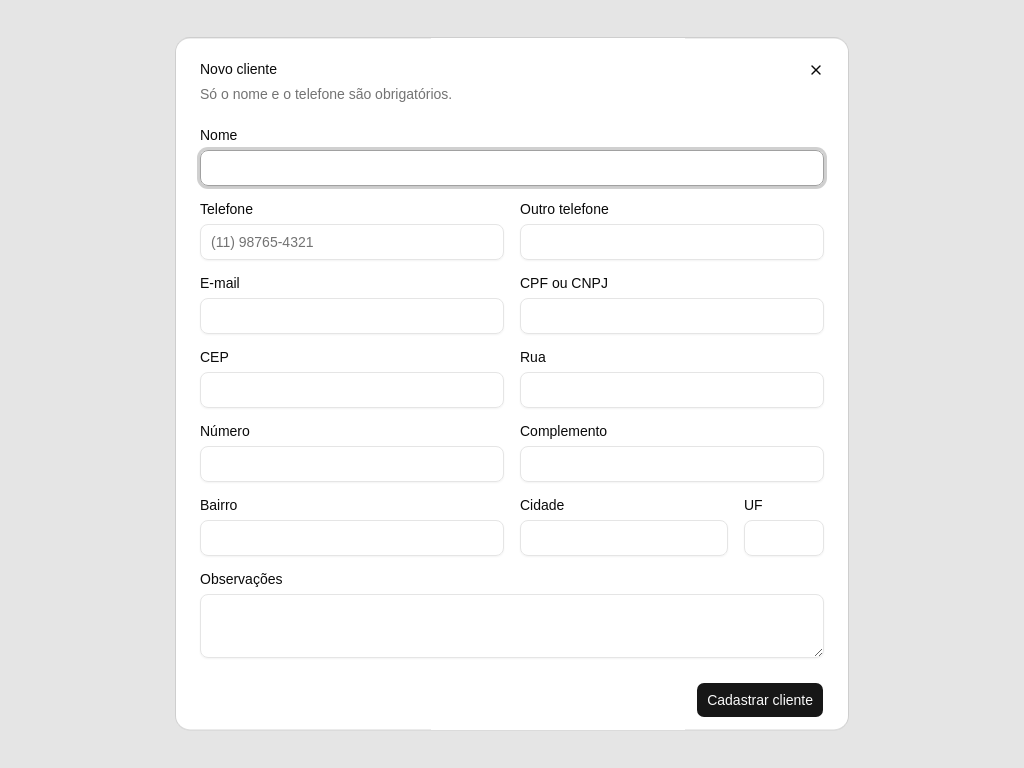
Customer Dialog › should point at the phone when another customer has it
Step 1. Type "Maria Souza" into the field labelled "Nome" → {"x": 512, "y": 168}, box [200,150,824,186]
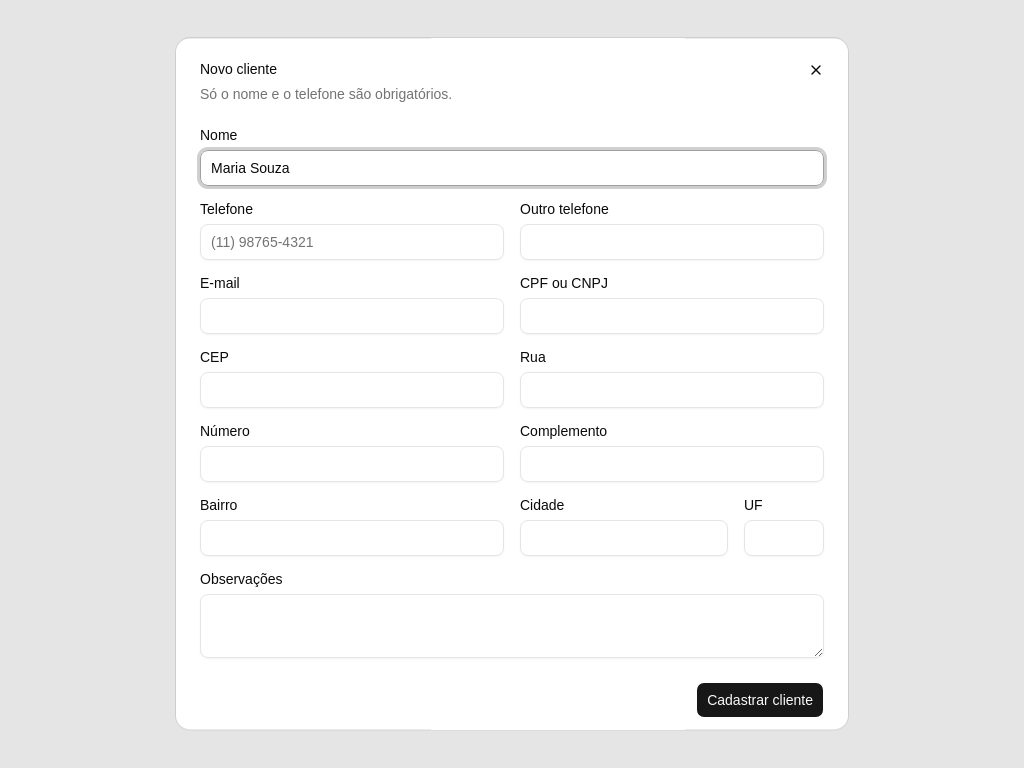
Step 2. Type "11987654321" into the field labelled "Telefone" → {"x": 352, "y": 242}, box [200,224,504,260]
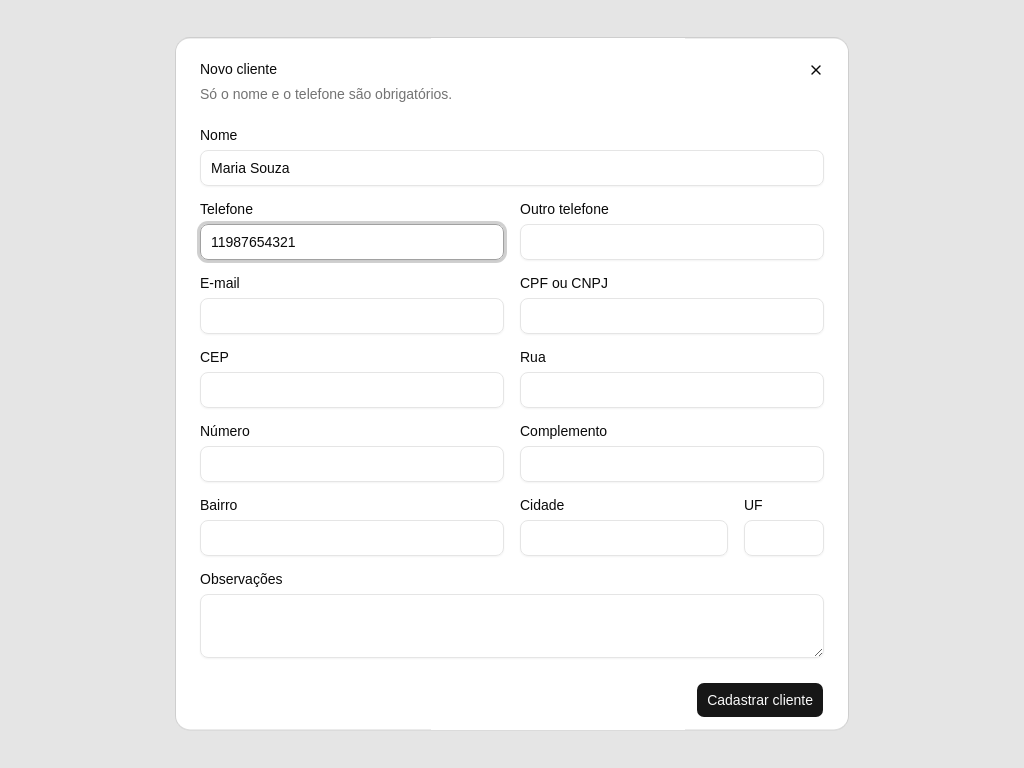
Step 3. Click the button "Cadastrar cliente" → {"x": 760, "y": 700}, box [696,682,824,718]
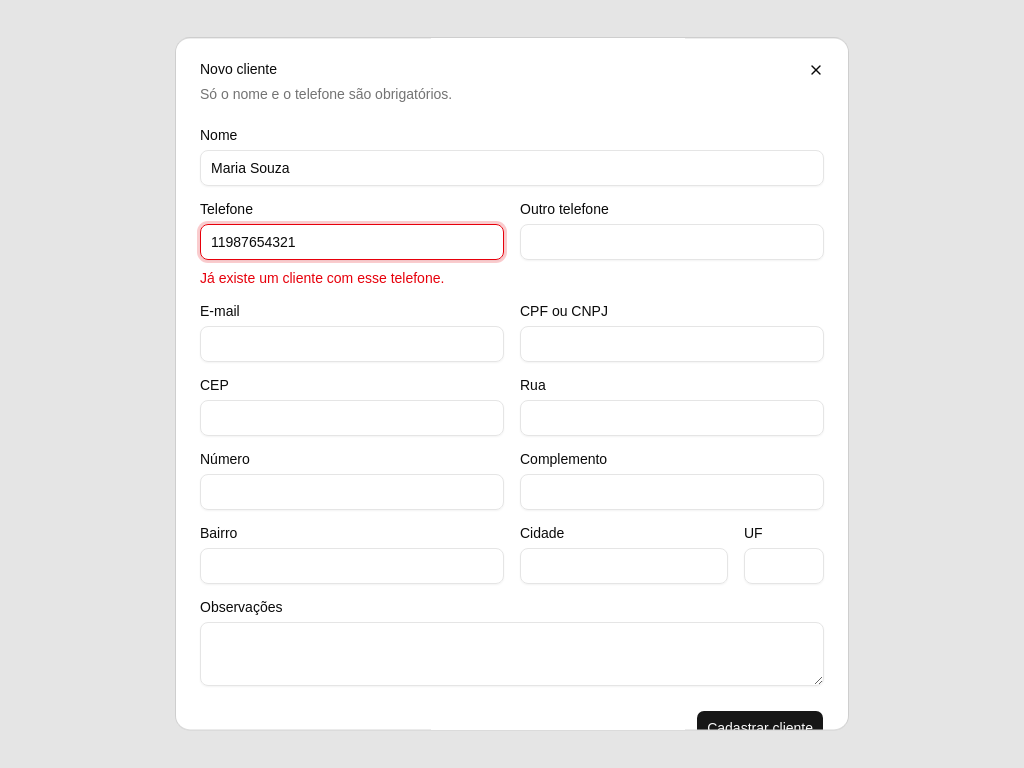
Expected: the text "Já existe um cliente com esse telefone." is shown, [200,270,444,286]
